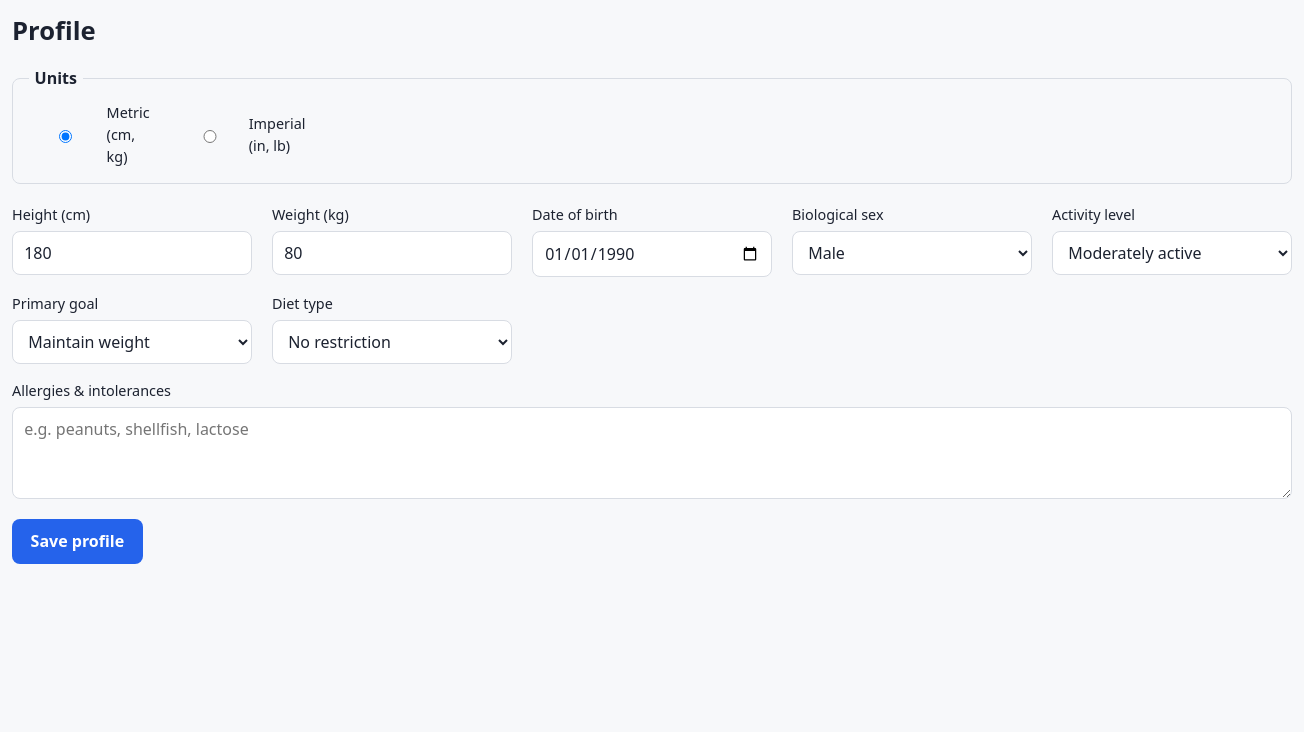
ProfilePage › shows backend validation errors inline
Expected: the number field labelled "Height (cm)" holds "180", [12,231,252,275]
Click the button "Save profile": point(77, 541) [12,519,143,564]
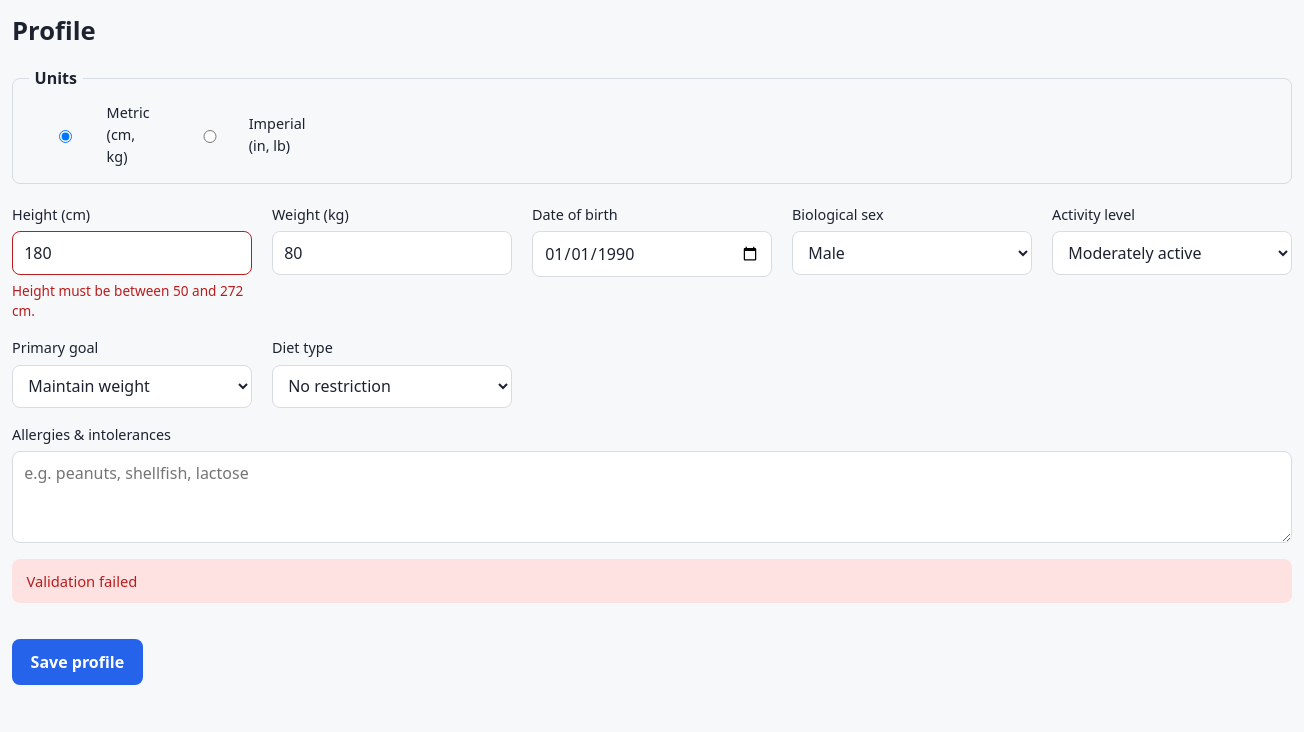
Expected: the text "Height must be between 50 and 272 cm." is shown, [12,281,252,321]
